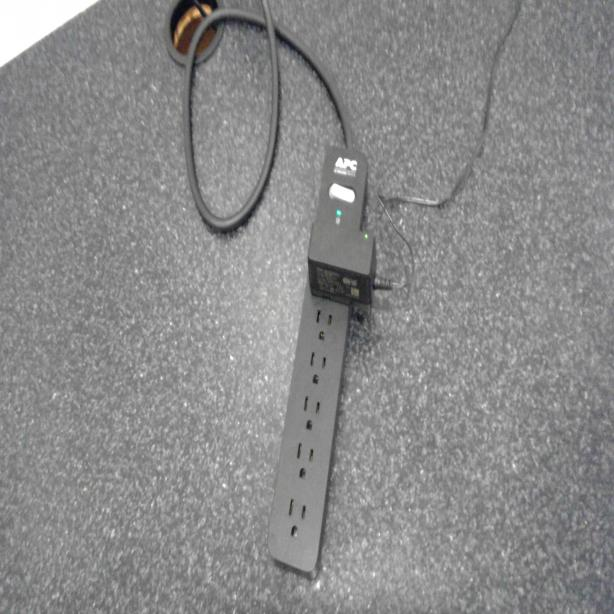typeb: (286, 494, 310, 545), (312, 299, 336, 346), (294, 436, 316, 484), (301, 392, 322, 435), (307, 348, 329, 386)
